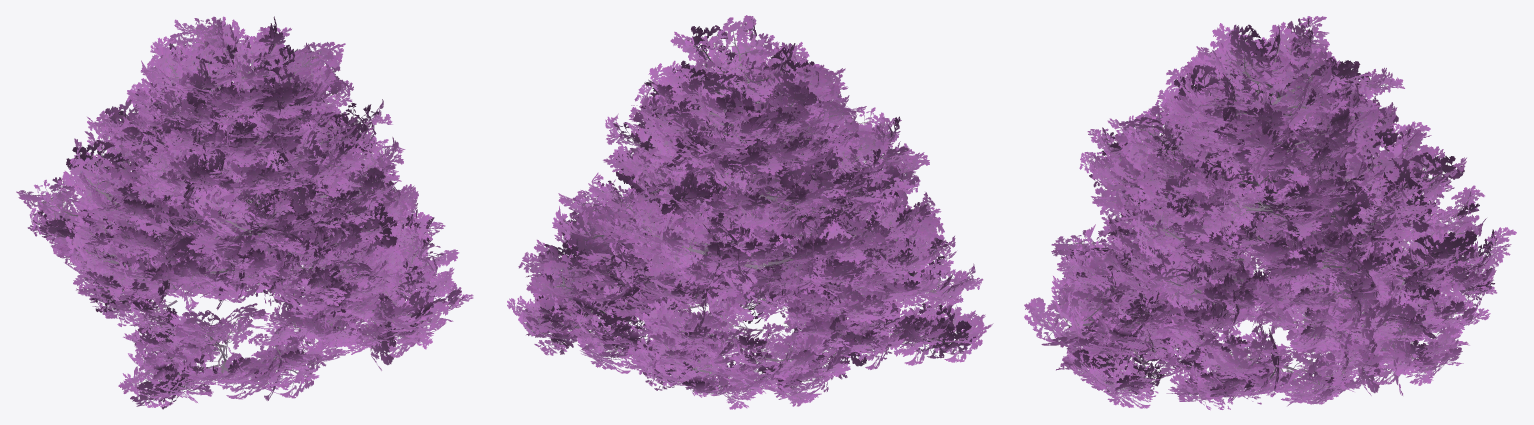
3 views of the same model, side by side, from view 1: azimuth 30°, elevation 25°; view 2: azimuth 150°, elevation 25°; view 3: azimuth 270°, elevation 25° (orthographic). The views are drawn at different scales.
Parts seen in each view (by area): view 1: SM_FH_Oak_Tree_02_Canopy_LOD0; view 2: SM_FH_Oak_Tree_02_Canopy_LOD0; view 3: SM_FH_Oak_Tree_02_Canopy_LOD0.
Part boxes in pixels (left/top/right/bottom): SM_FH_Oak_Tree_02_Canopy_LOD0: left=16, top=16, right=473, bottom=409; SM_FH_Oak_Tree_02_Canopy_LOD0: left=507, top=15, right=993, bottom=409; SM_FH_Oak_Tree_02_Canopy_LOD0: left=1024, top=16, right=1516, bottom=410.
Bounding box in the file's own units: 21.24 × 18.16 × 22.71.
1 material, 1 textured.
